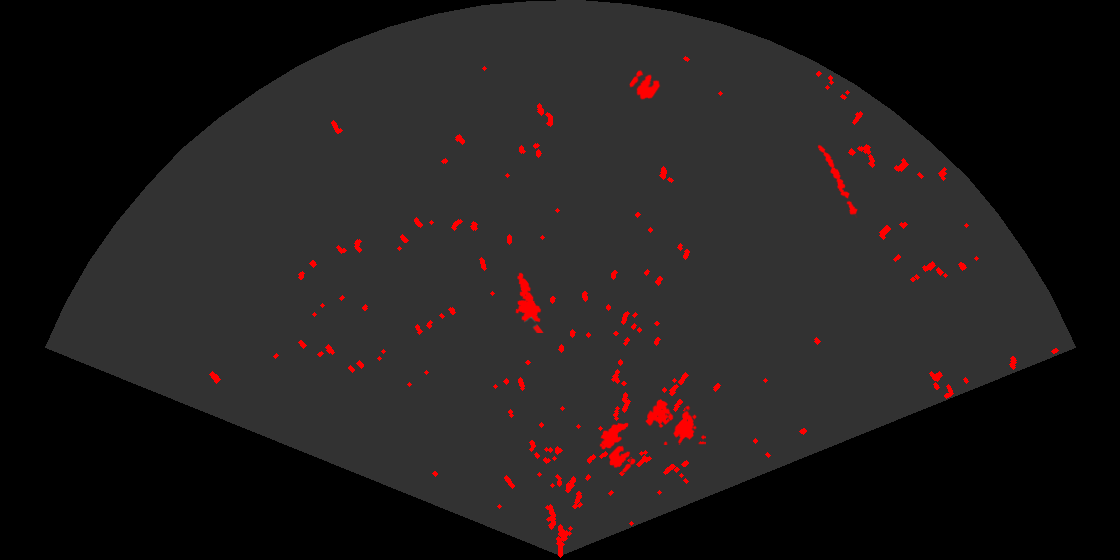AUV: (598, 421, 630, 451)
ball: (628, 68, 662, 101), (607, 444, 637, 474)
cage: (644, 397, 706, 445)
chain: (816, 143, 859, 218)
frogman: (514, 271, 545, 333)
